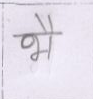ai_matra: (34, 14, 59, 31)
